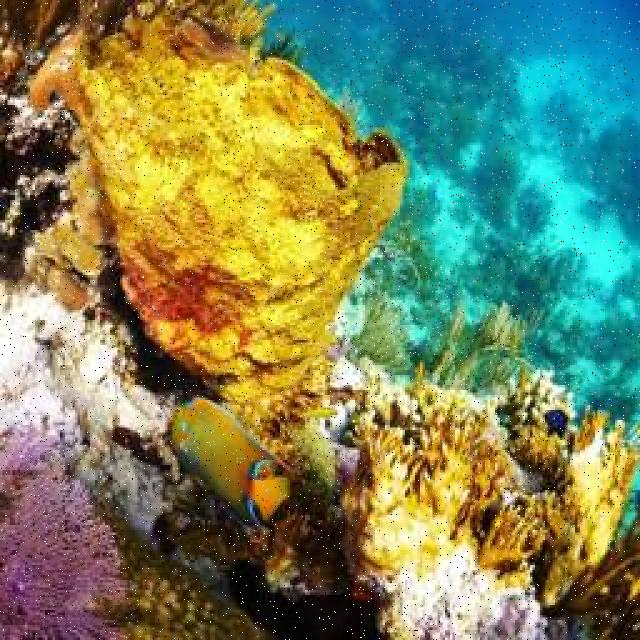fish: (164, 398, 288, 528)
reefs: (26, 1, 405, 477), (340, 360, 507, 579)
